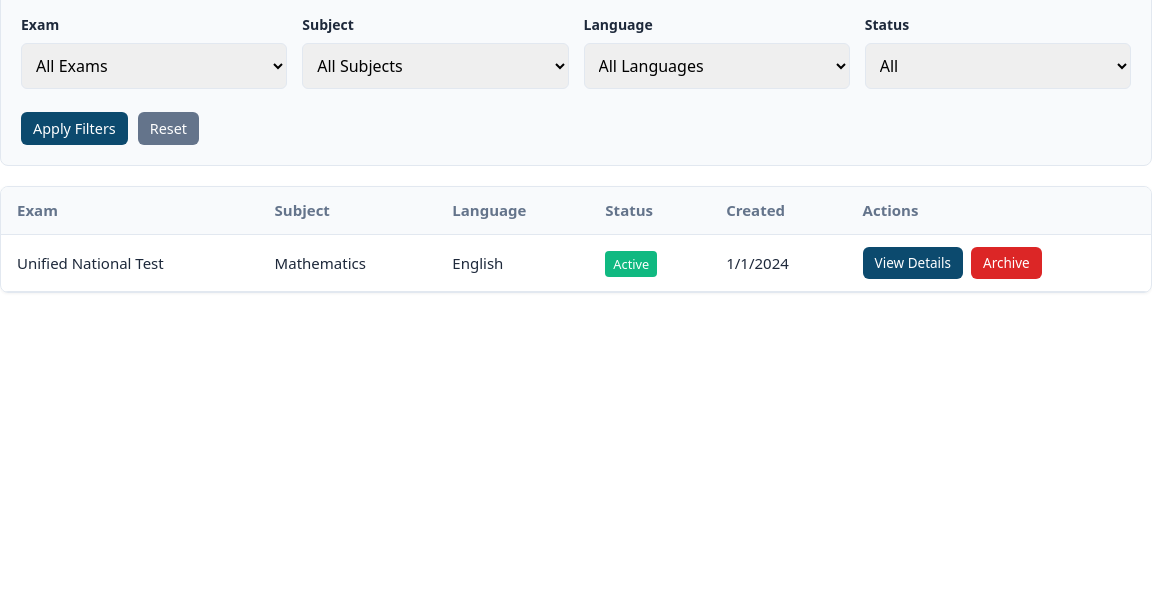
Test: CourseTemplatePanel › displays lesson content when node is expanded
Click the button "View Details": (913,263) [863,247,963,279]
(page scrolled)
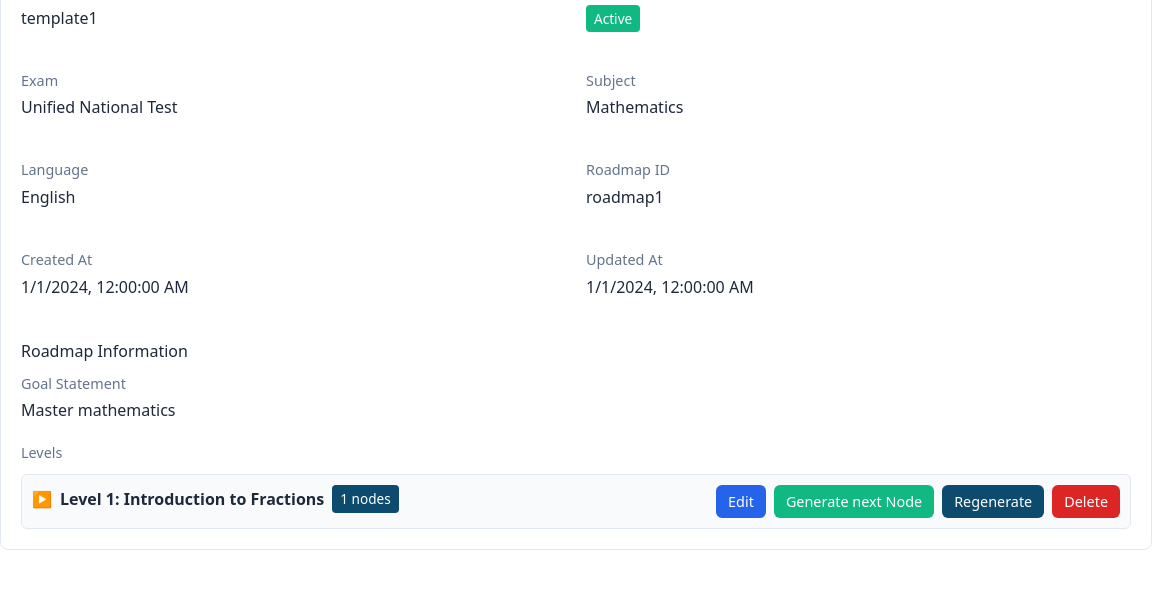
Expected: the text "Level 1: Introduction to Fractions" is shown
# Expand the level
Click the text "Level 1: Introduction to Fractions": (192,499) [60,487,324,511]
(page scrolled)
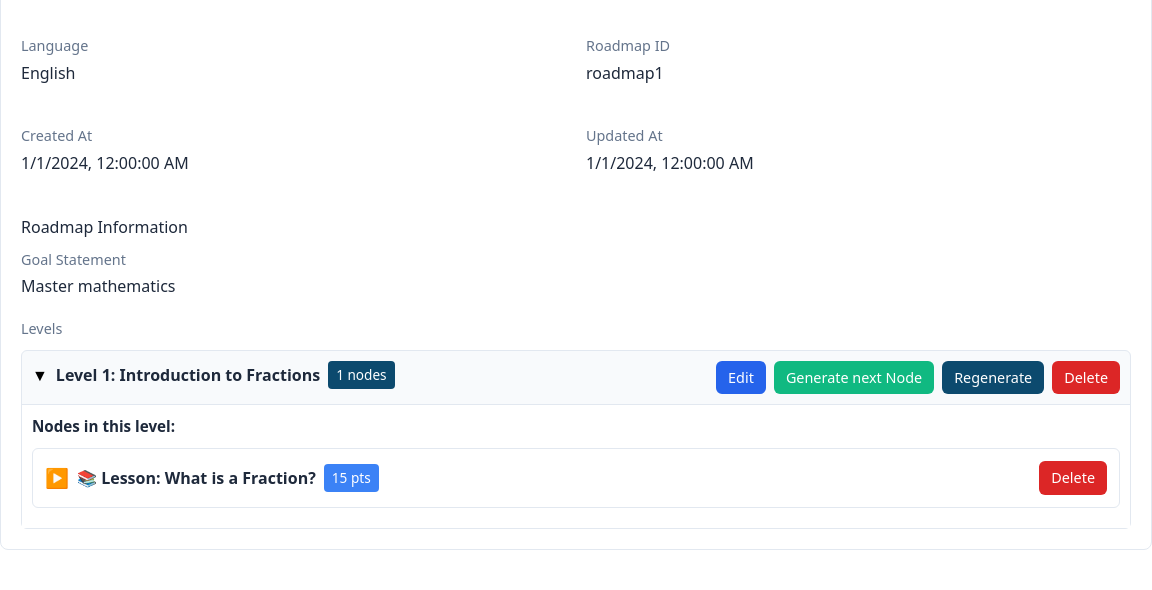
Expected: the text "Understanding Fractions" is not shown
Expected: the text "📚 Lesson: What is a Fraction?" is shown
# Click to expand the node
Click the text "📚 Lesson: What is a Fraction?": (196,478) [77,466,316,490]
(page scrolled)
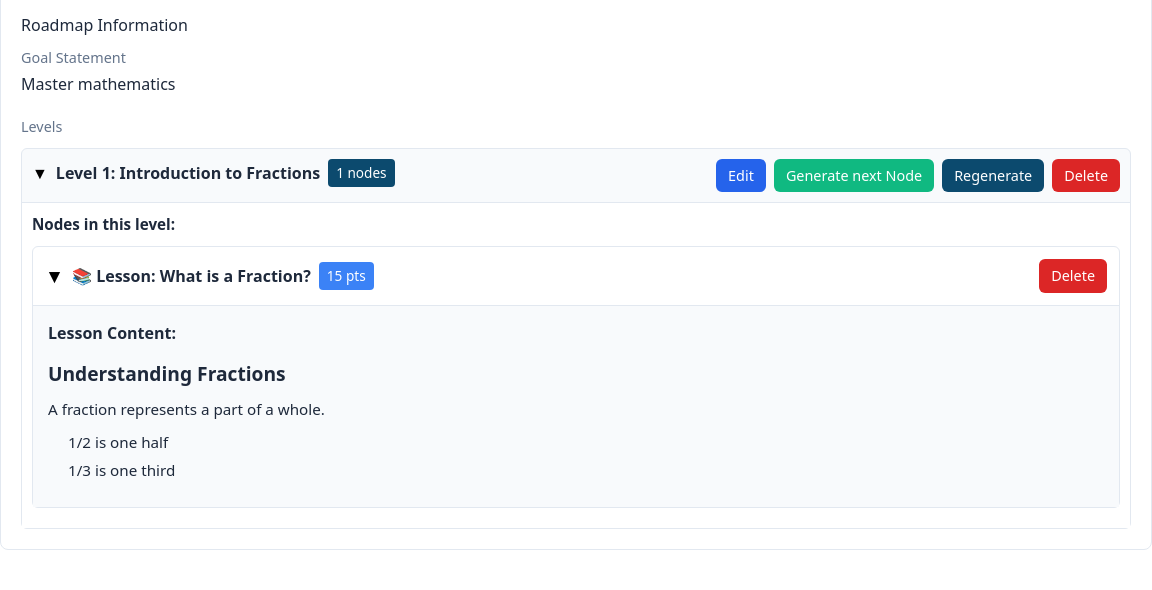
Expected: the text "Lesson Content:" is shown, [48,322,176,344]
Expected: the text "Understanding Fractions" is shown, [48,360,286,387]
Expected: the text "A fraction represents a part of a whole." is shown, [48,399,325,419]
